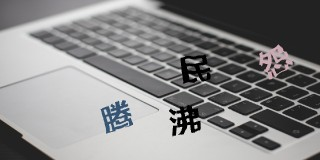怨: (256, 42, 293, 80)
民: (180, 55, 213, 84)
沸: (168, 105, 201, 137)
腾: (100, 98, 134, 134)
